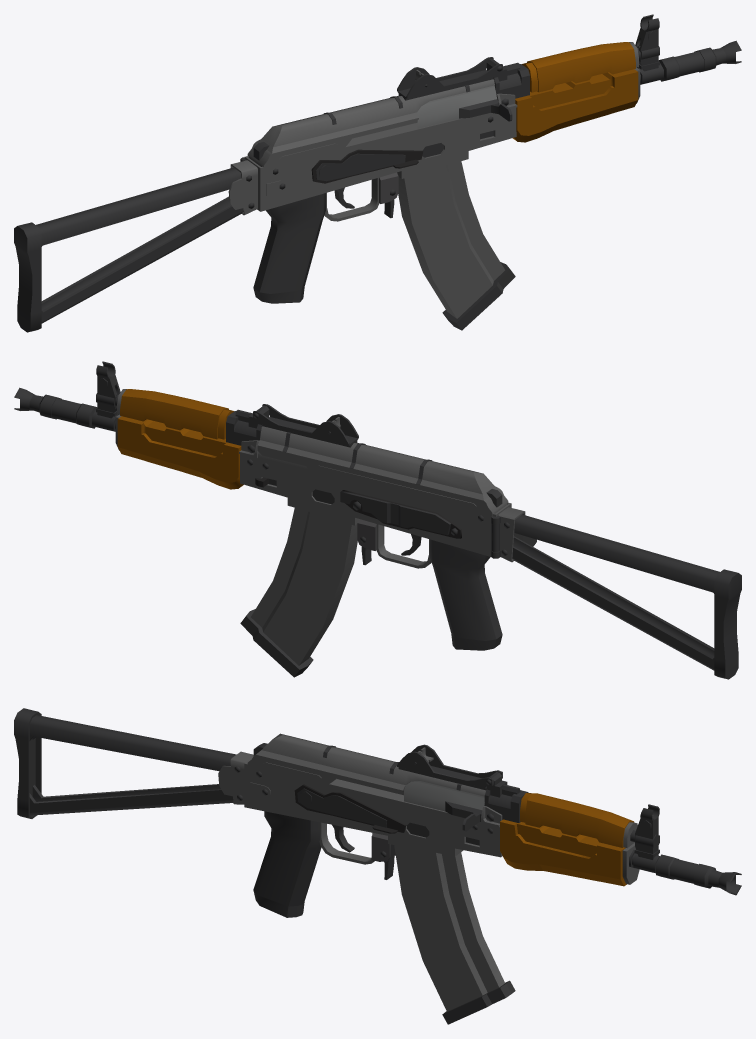
Rendered from AKS74U_Mesh.fbx.
3 renders of one model, top to bottom at view 1: azimuth 30°, elevation 25°; view 2: azimuth 150°, elevation 25°; view 3: azimuth 330°, elevation 25°, orthographic.
Visible parts, largest first — view 1: AKS74U; view 2: AKS74U; view 3: AKS74U.
Boxes of the visible parts, left/top/right/bottom form: AKS74U: left=14, top=14, right=741, bottom=332; AKS74U: left=14, top=361, right=741, bottom=679; AKS74U: left=14, top=708, right=741, bottom=1024.
Bounding box in the file's own units: 0.8455 × 0.2971 × 0.0716.
